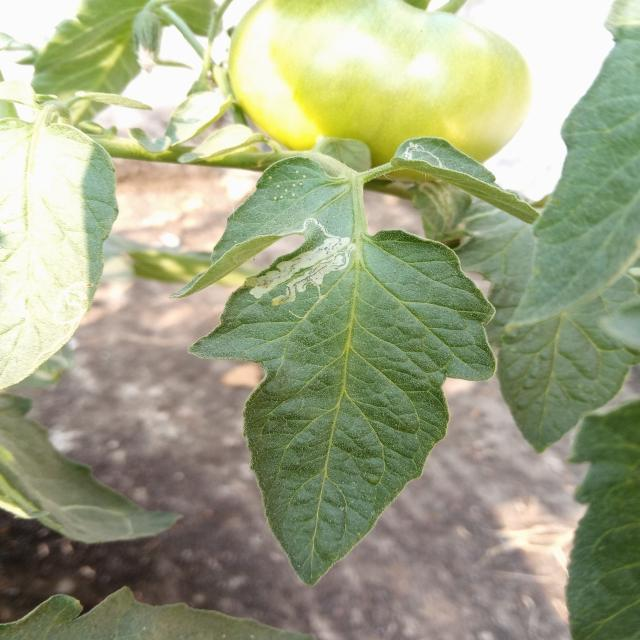Tuta absoluta: (242, 208, 362, 328)
